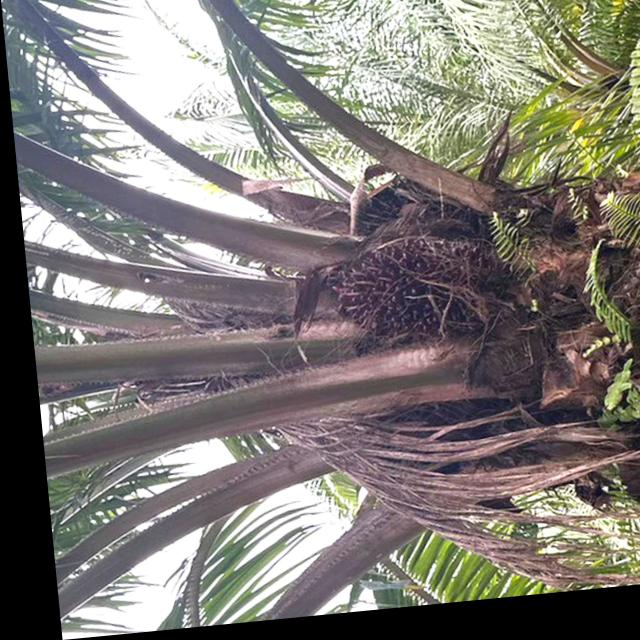ripe: (312, 222, 503, 376)
